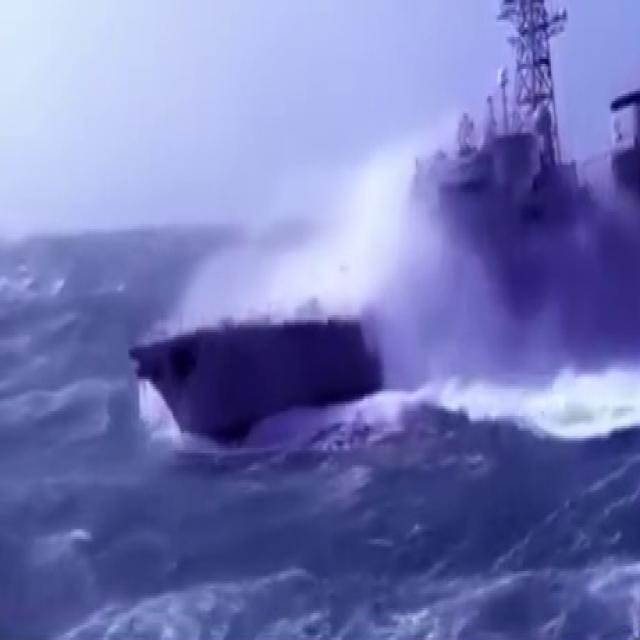houseboat: (127, 0, 640, 453)
